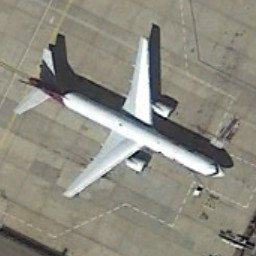Airplane: (10, 23, 235, 204)
